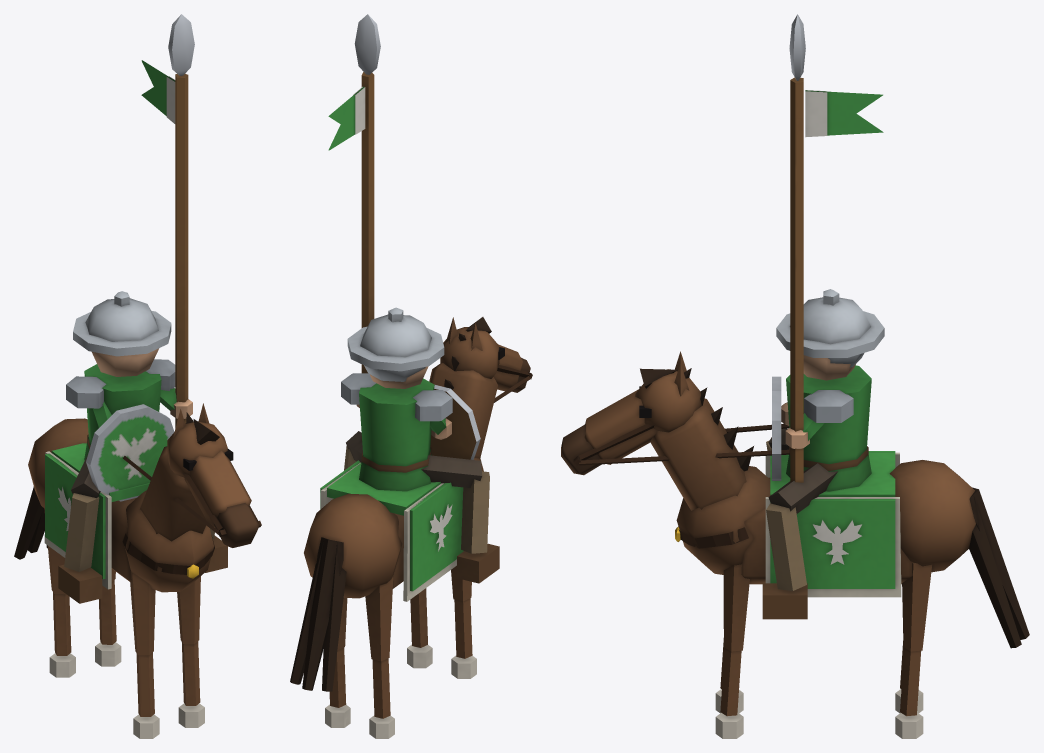
The model's file is assault_dl2_green.glb.
3 views of the same model, side by side, from view 1: azimuth 30°, elevation 25°; view 2: azimuth 150°, elevation 25°; view 3: azimuth 270°, elevation 25° (orthographic). The views are drawn at different scales.
Visible parts, largest first — view 1: assault_dl2_green; view 2: assault_dl2_green; view 3: assault_dl2_green.
Part boxes in pixels (bbox=[...]): assault_dl2_green: bbox=[14, 14, 261, 738]; assault_dl2_green: bbox=[290, 14, 532, 738]; assault_dl2_green: bbox=[561, 14, 1029, 738].
Bounding box in the file's own units: 0.2399 × 1.03 × 0.6004.
Materials: 1 (1 with a texture image).
